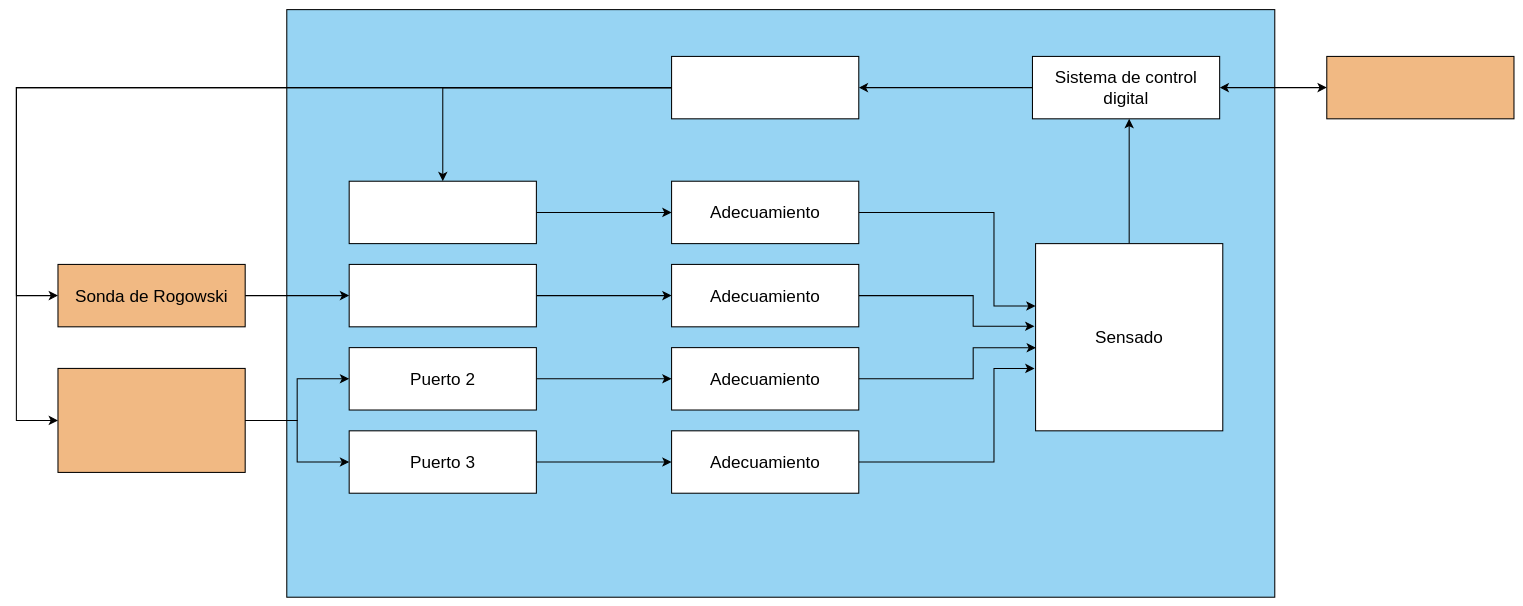
This 1523x606 diagram has some shape labels left out. Each missing label, with the centre of its shape:
Generador de corriente: the point at 765,87
Otras sondas: the point at 151,420
PC: the point at 1420,87
Puerto 1: the point at 442,295
Sensor de corriente: the point at 442,212
